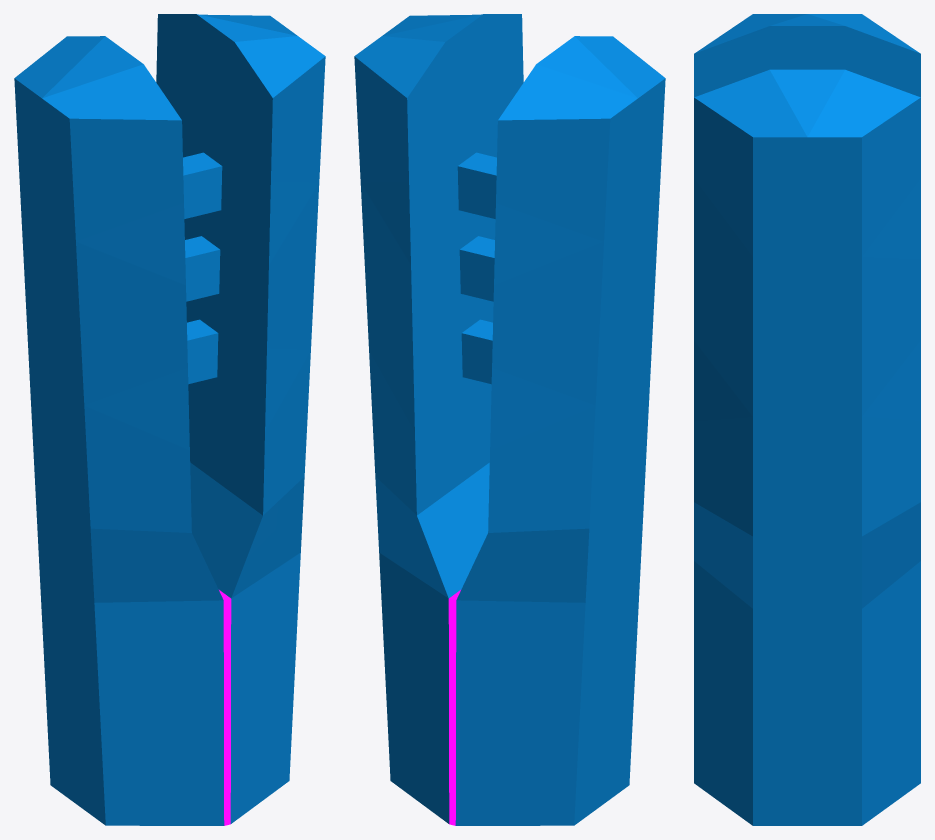
Rendered from Ladja_white.glb.
The picture shows the model from 3 angles, left to right: view 1: azimuth 30°, elevation 25°; view 2: azimuth 150°, elevation 25°; view 3: azimuth 270°, elevation 25°; orthographic projection.
Parts seen in each view (by area): view 1: Ladja001; view 2: Ladja001; view 3: Ladja001.
Boxes of the visible parts, box(x1,y1,x2,y2) form: Ladja001: box(14, 14, 325, 825); Ladja001: box(354, 14, 665, 825); Ladja001: box(694, 14, 920, 825).
Size of what is drawn, in the model's own units: 0.6048 by 1.68 by 0.4704.
